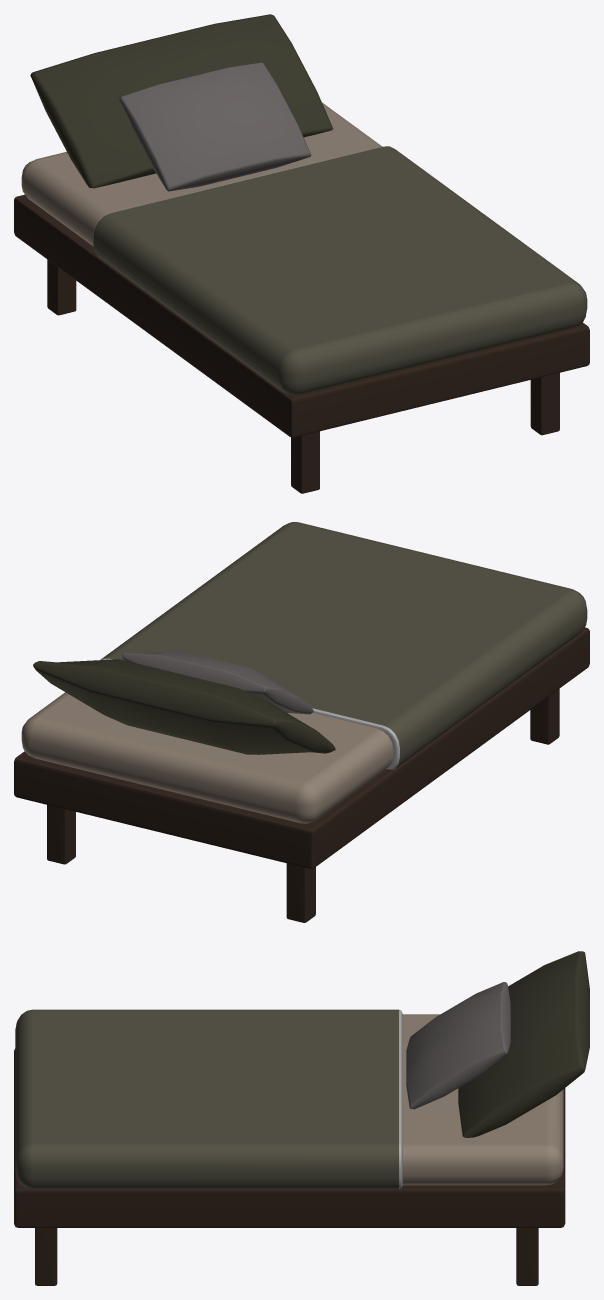
Rendered from whole_bed.fbx.
The picture shows the model from 3 angles, top to bottom: view 1: azimuth 30°, elevation 25°; view 2: azimuth 150°, elevation 25°; view 3: azimuth 270°, elevation 25°; orthographic projection.
Visible parts, largest first — view 1: bed_geo, bed_pillows_geo, bed_base_geo; view 2: bed_geo, bed_base_geo, bed_pillows_geo; view 3: bed_geo, bed_base_geo, bed_pillows_geo.
Part boxes in pixels (left/top/right/bottom): bed_geo: left=21, top=102, right=587, bottom=394; bed_pillows_geo: left=30, top=14, right=333, bottom=191; bed_base_geo: left=14, top=194, right=589, bottom=493; bed_geo: left=21, top=522, right=587, bottom=823; bed_base_geo: left=14, top=627, right=589, bottom=922; bed_pillows_geo: left=33, top=650, right=335, bottom=754; bed_geo: left=15, top=1009, right=563, bottom=1189; bed_base_geo: left=14, top=1048, right=565, bottom=1285; bed_pillows_geo: left=406, top=951, right=589, bottom=1137.
Size of the model in its own units: 218 by 153 by 360.
